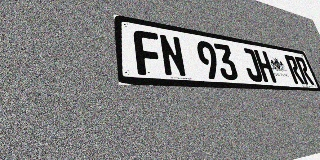3: (213, 43, 239, 81)
9: (195, 40, 222, 80)
F: (133, 29, 164, 76)
H: (254, 50, 277, 83)
J: (240, 47, 264, 82)
N: (158, 34, 188, 78)
R: (284, 55, 305, 84), (294, 56, 315, 85)
